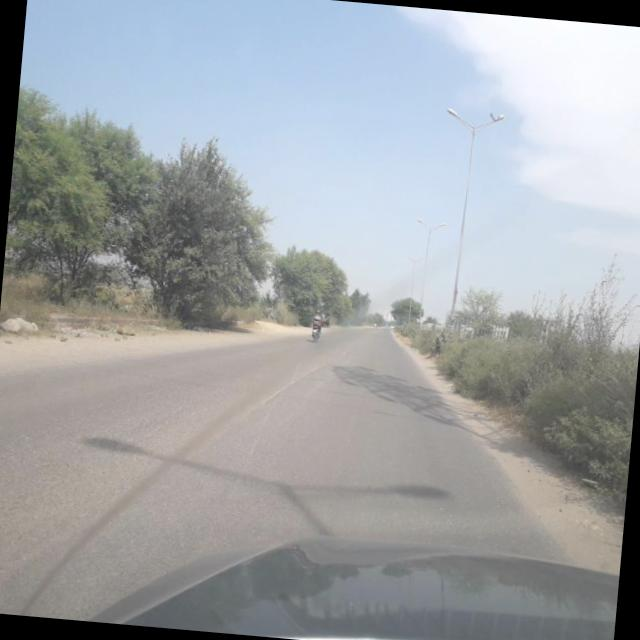crack: (166, 344, 331, 479)
